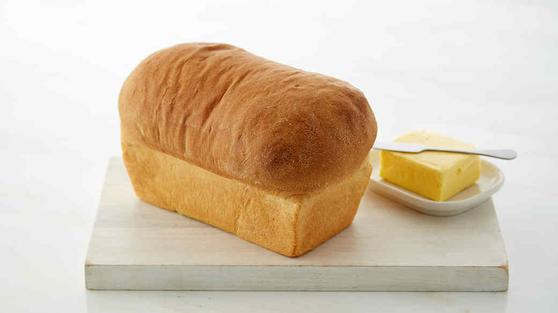white_bread: (120, 32, 374, 267)
